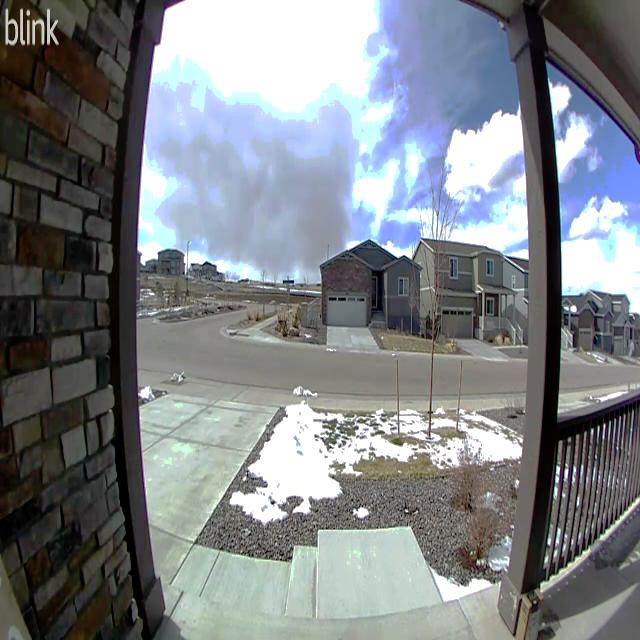Box: (517, 588, 543, 640)
